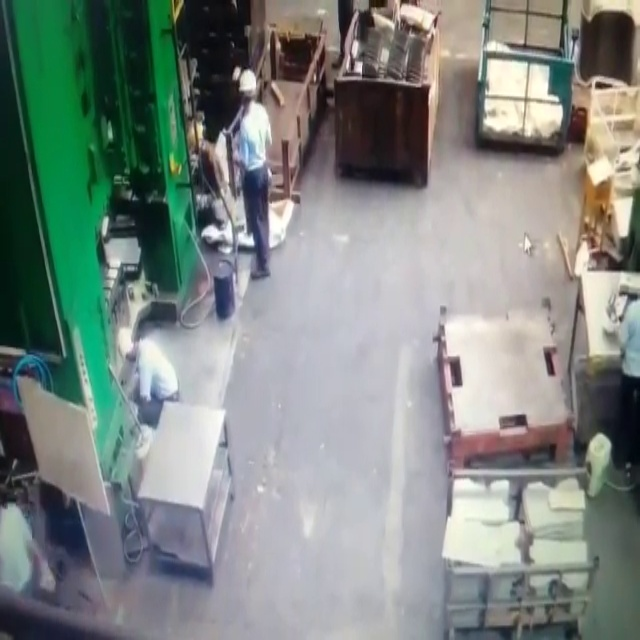safety_helmet: (237, 68, 257, 92)
